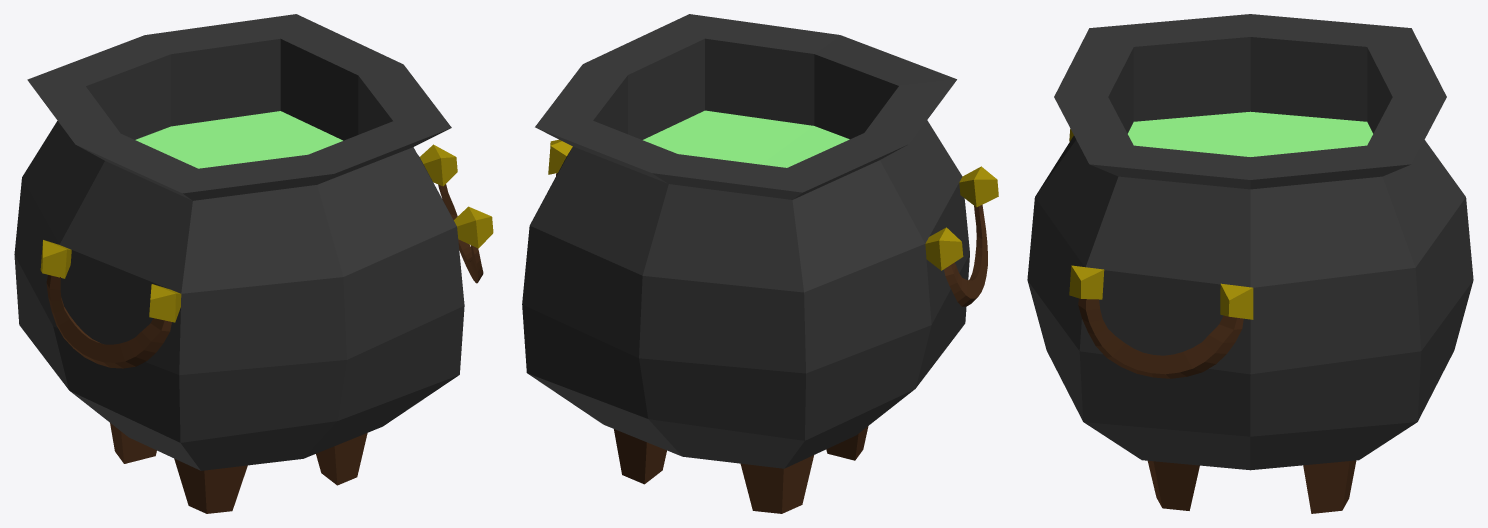
The model's file is cauldron.fbx.
3 views of the same model, side by side, from view 1: azimuth 30°, elevation 25°; view 2: azimuth 150°, elevation 25°; view 3: azimuth 270°, elevation 25° (orthographic). The views are drawn at different scales.
Visible parts, largest first — view 1: Cauldron, HandleR, HandleL; view 2: Cauldron, HandleR; view 3: Cauldron, HandleL.
Part boxes in pixels (x1,y1,x2,y2): Cauldron: [14, 14, 493, 513]; HandleR: [46, 275, 171, 368]; HandleL: [438, 184, 483, 283]; Cauldron: [522, 14, 998, 513]; HandleR: [944, 204, 987, 306]; Cauldron: [1027, 14, 1473, 513]; HandleL: [1078, 298, 1243, 378].
Bounding box in the file's own units: 669 × 556 × 600.
